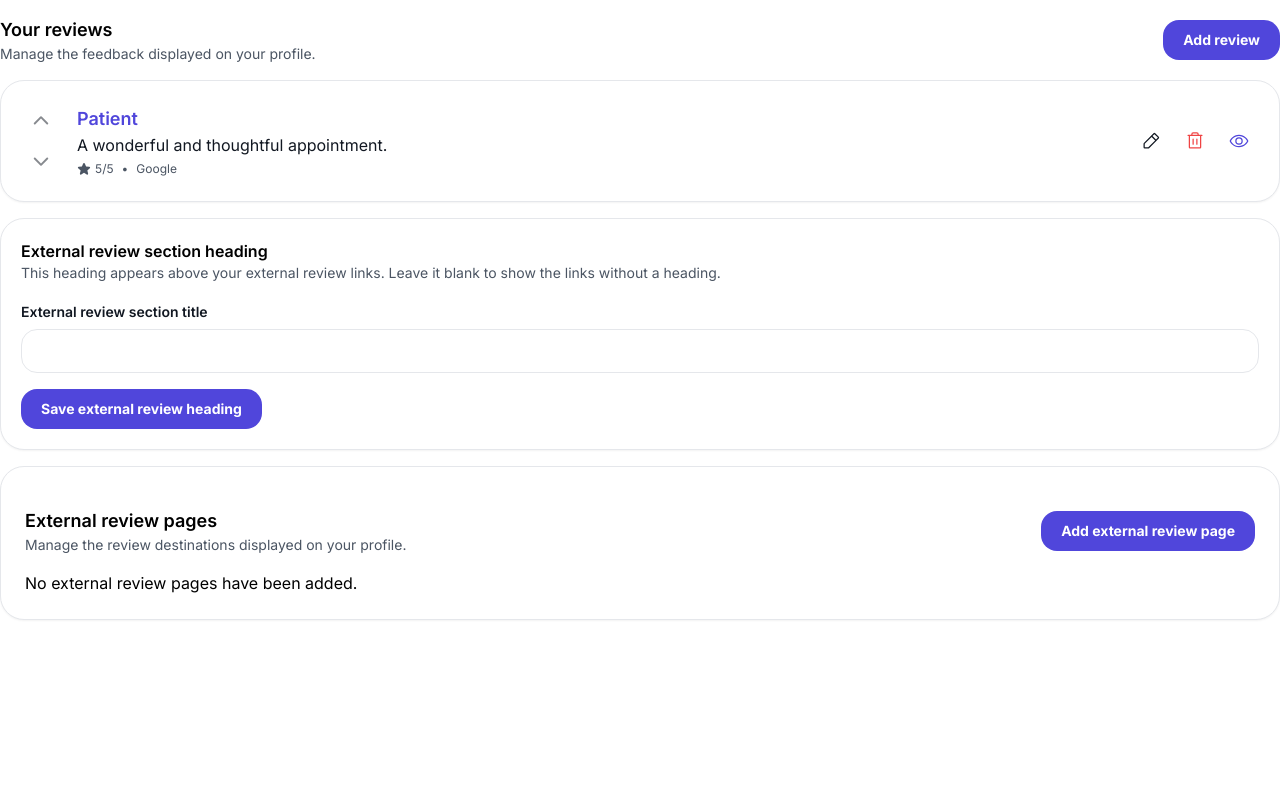
Test case: ReviewManager › preserves the delete dialog and restores its action after rejection
Step 1. Click the button named "Delete Patient" → {"x": 1195, "y": 141}, box [1175,121,1215,161]
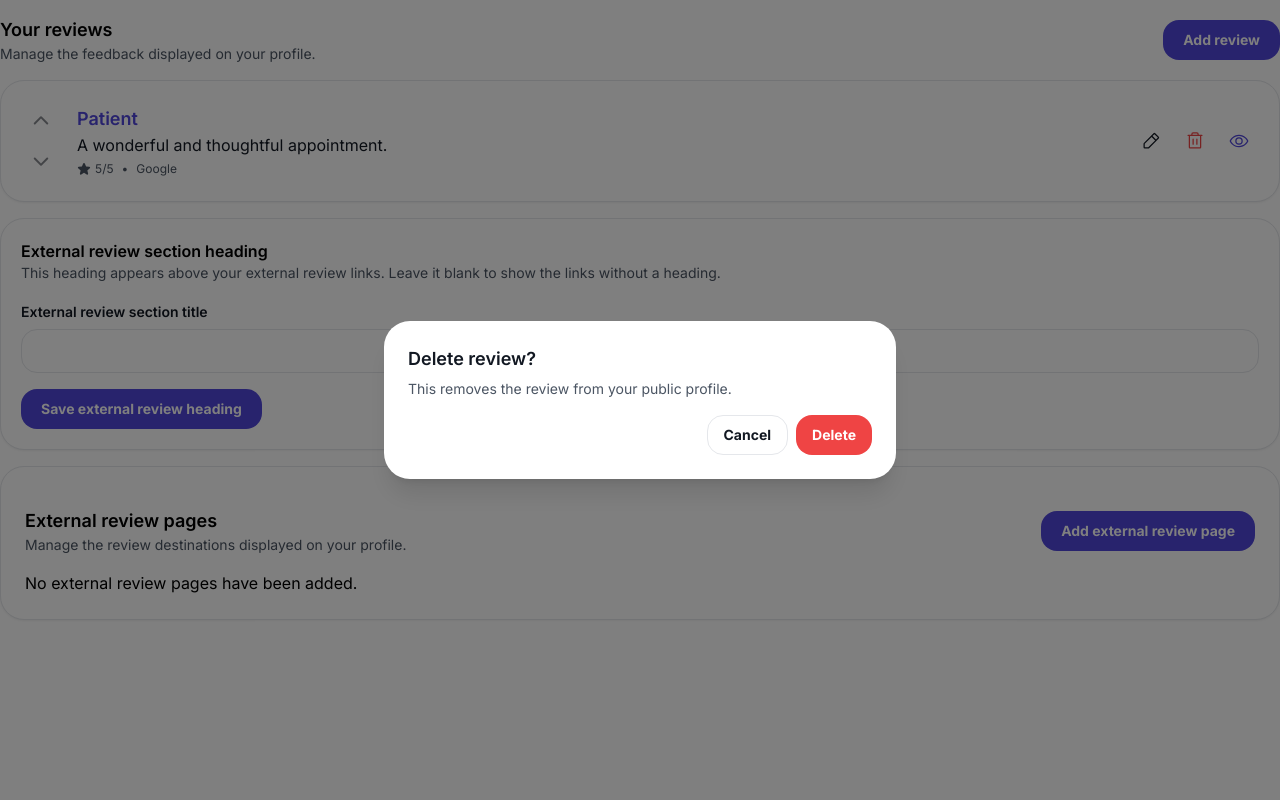
Step 2. Click the button "Delete" → {"x": 834, "y": 435}, box [796,415,872,455]
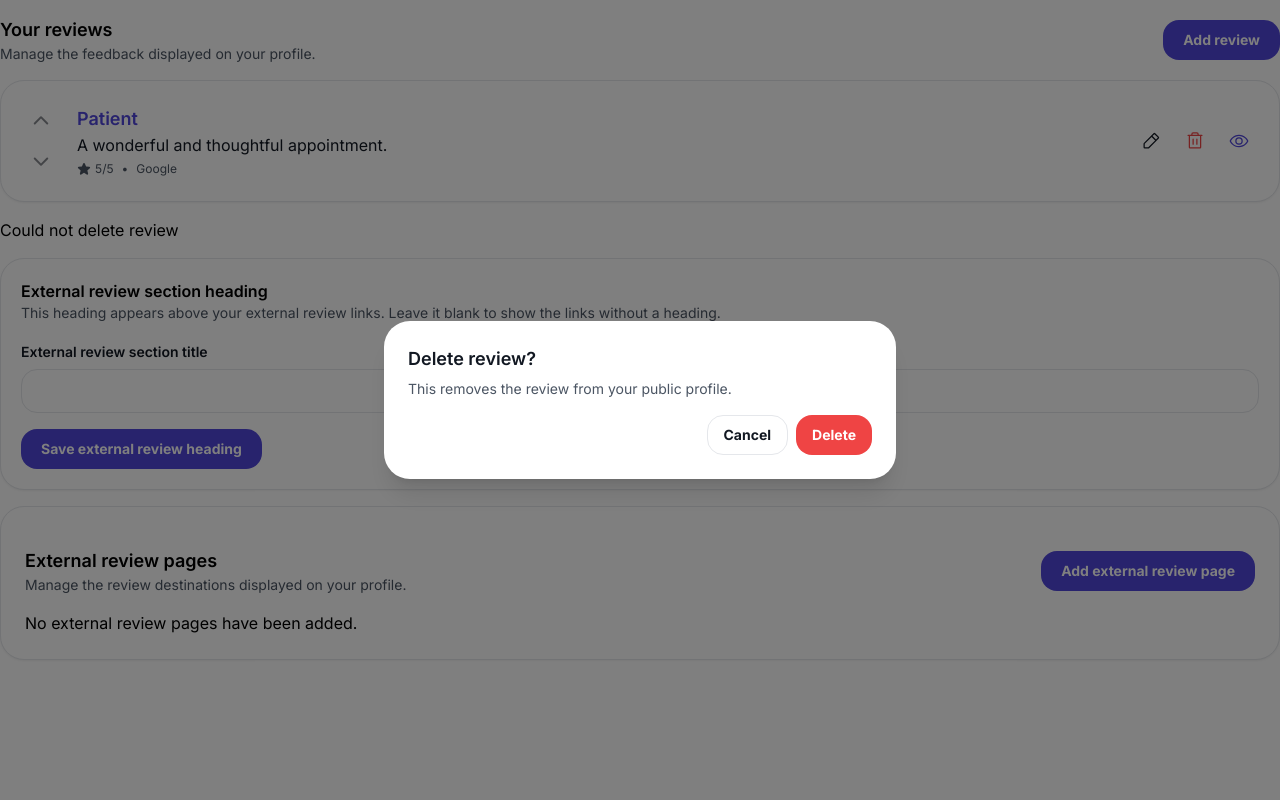
Expected: the button "Delete" is enabled, [796,415,872,455]
Expected: the message reads "Could not delete review", [0,220,179,240]
